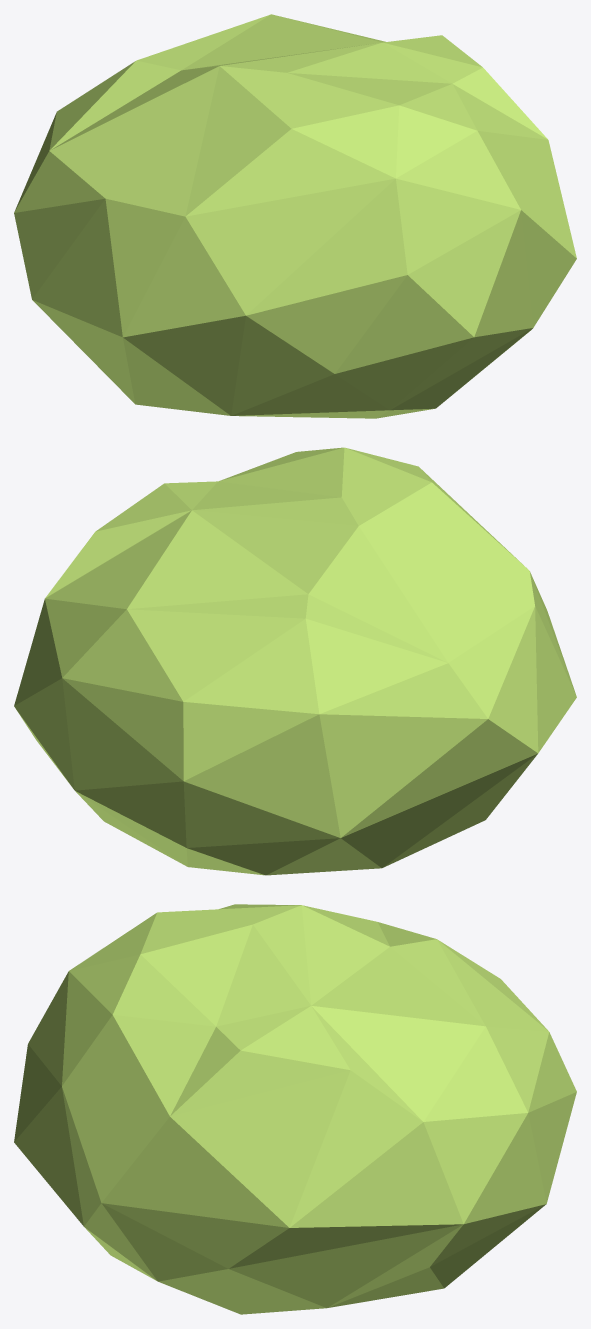
File: Bush_b_m_03.fbx
3 renders of one model, top to bottom at view 1: azimuth 30°, elevation 25°; view 2: azimuth 150°, elevation 25°; view 3: azimuth 270°, elevation 25°, orthographic. The views are drawn at different scales.
Visible parts, largest first — view 1: Bush_b_m_03; view 2: Bush_b_m_03; view 3: Bush_b_m_03.
Part boxes in pixels (<box>): Bush_b_m_03: <box>14,14,576,418</box>; Bush_b_m_03: <box>14,447,576,875</box>; Bush_b_m_03: <box>14,904,576,1314</box>.
Bounding box in the file's own units: 171 × 107 × 167.
